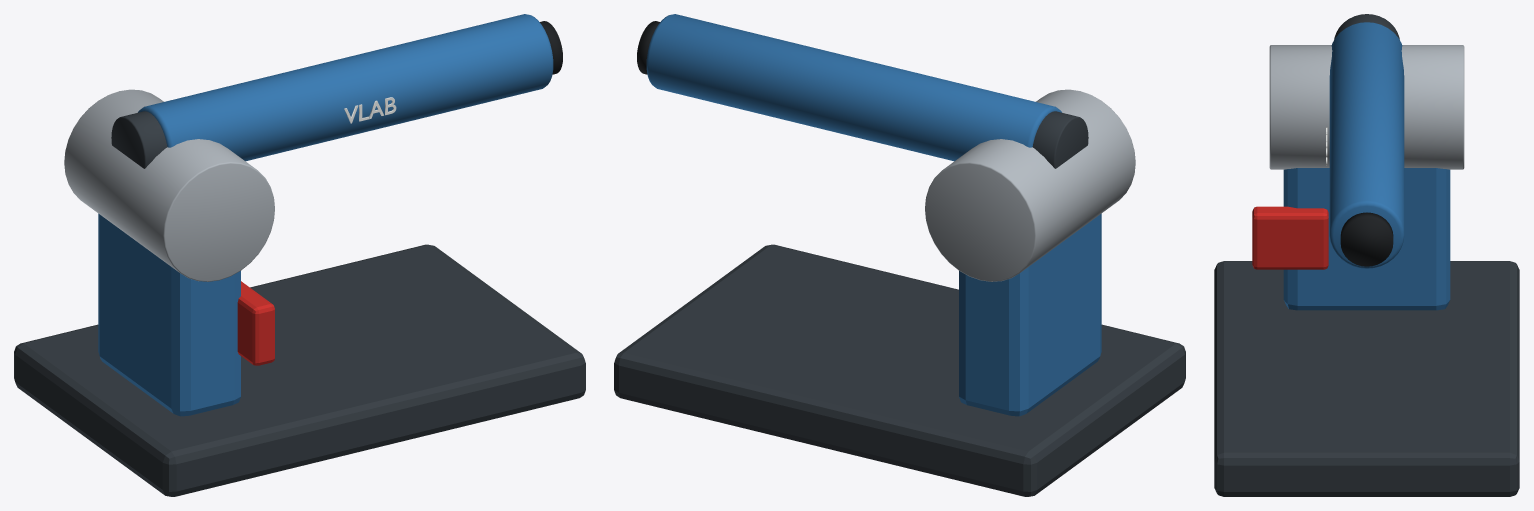
Rendered from Physics_Projectile_Launcher.fbx.
3 renders of one model, left to right at view 1: azimuth 30°, elevation 25°; view 2: azimuth 150°, elevation 25°; view 3: azimuth 270°, elevation 25°, orthographic. The views are drawn at different scales.
Parts seen in each view (by area): view 1: LauncherBase, LauncherBarrel, LauncherAnglePivot, LauncherSupport, LauncherTrigger, ProjectileSocket; view 2: LauncherBase, LauncherBarrel, LauncherAnglePivot, LauncherSupport, ProjectileSocket; view 3: LauncherBase, LauncherBarrel, LauncherAnglePivot, LauncherSupport, LauncherTrigger, BarrelBore, ProjectileSocket.
Boxes of the visible parts, x1,y1,x2,y2 form: LauncherBase: (14,244,585,496); LauncherBarrel: (138,14,553,161); LauncherAnglePivot: (64,89,274,281); LauncherSupport: (98,213,240,416); LauncherTrigger: (237,281,274,365); ProjectileSocket: (111,111,167,168); LauncherBase: (614,244,1185,496); LauncherBarrel: (646,14,1061,161); LauncherAnglePivot: (925,89,1135,281); LauncherSupport: (959,213,1101,416); ProjectileSocket: (1032,111,1088,168); LauncherBase: (1214,261,1519,496); LauncherBarrel: (1329,22,1404,268); LauncherAnglePivot: (1269,45,1464,169); LauncherSupport: (1283,168,1450,310); LauncherTrigger: (1252,206,1328,269); BarrelBore: (1340,212,1393,266); ProjectileSocket: (1334,14,1399,39).
Bounding box in the file's own units: 0.371 × 0.2465 × 0.22.
